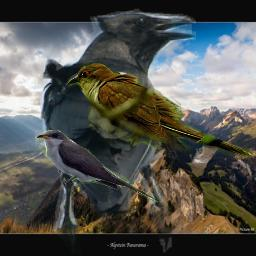Crow: (40, 5, 196, 254)
Cuckoo: (66, 61, 254, 159), (35, 130, 158, 204)
